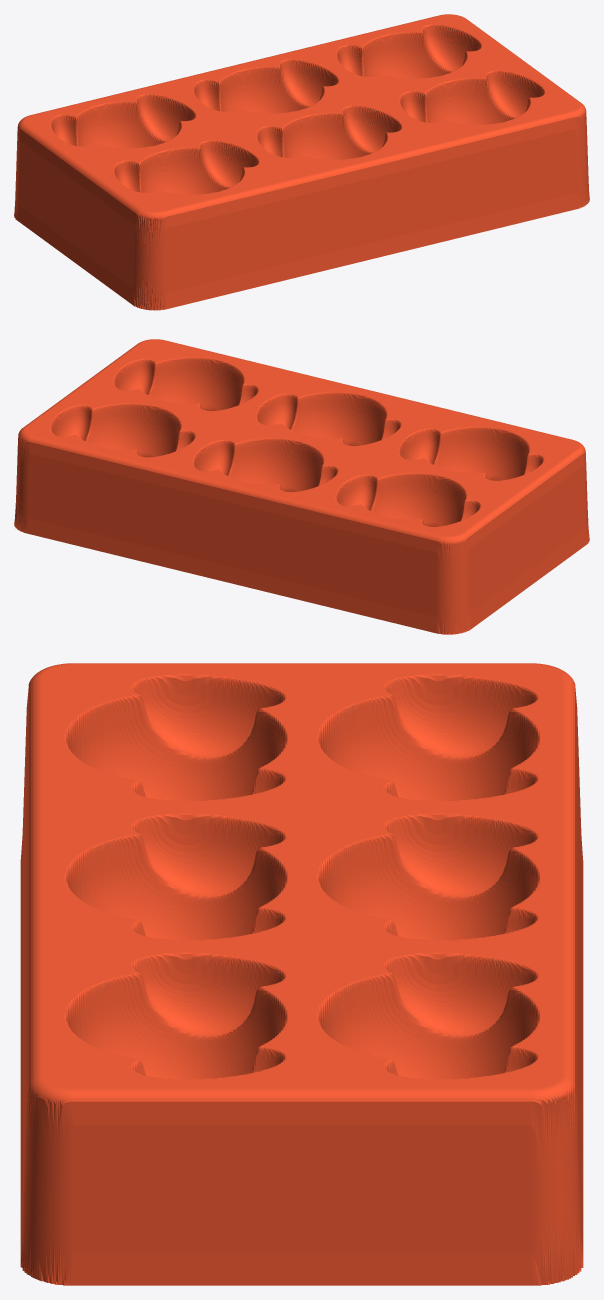
Rendered from mold.glb.
3 renders of one model, top to bottom at view 1: azimuth 30°, elevation 25°; view 2: azimuth 150°, elevation 25°; view 3: azimuth 270°, elevation 25°, orthographic. The views are drawn at different scales.
Visible parts, largest first — view 1: geometry_0; view 2: geometry_0; view 3: geometry_0.
Part boxes in pixels (x1=…): geometry_0: x1=14, y1=14, x2=589, y2=310; geometry_0: x1=14, y1=339, x2=589, y2=634; geometry_0: x1=20, y1=663, x2=583, y2=1285.
Size of the model in its own units: 0.1818 by 0.036 by 0.0978.
